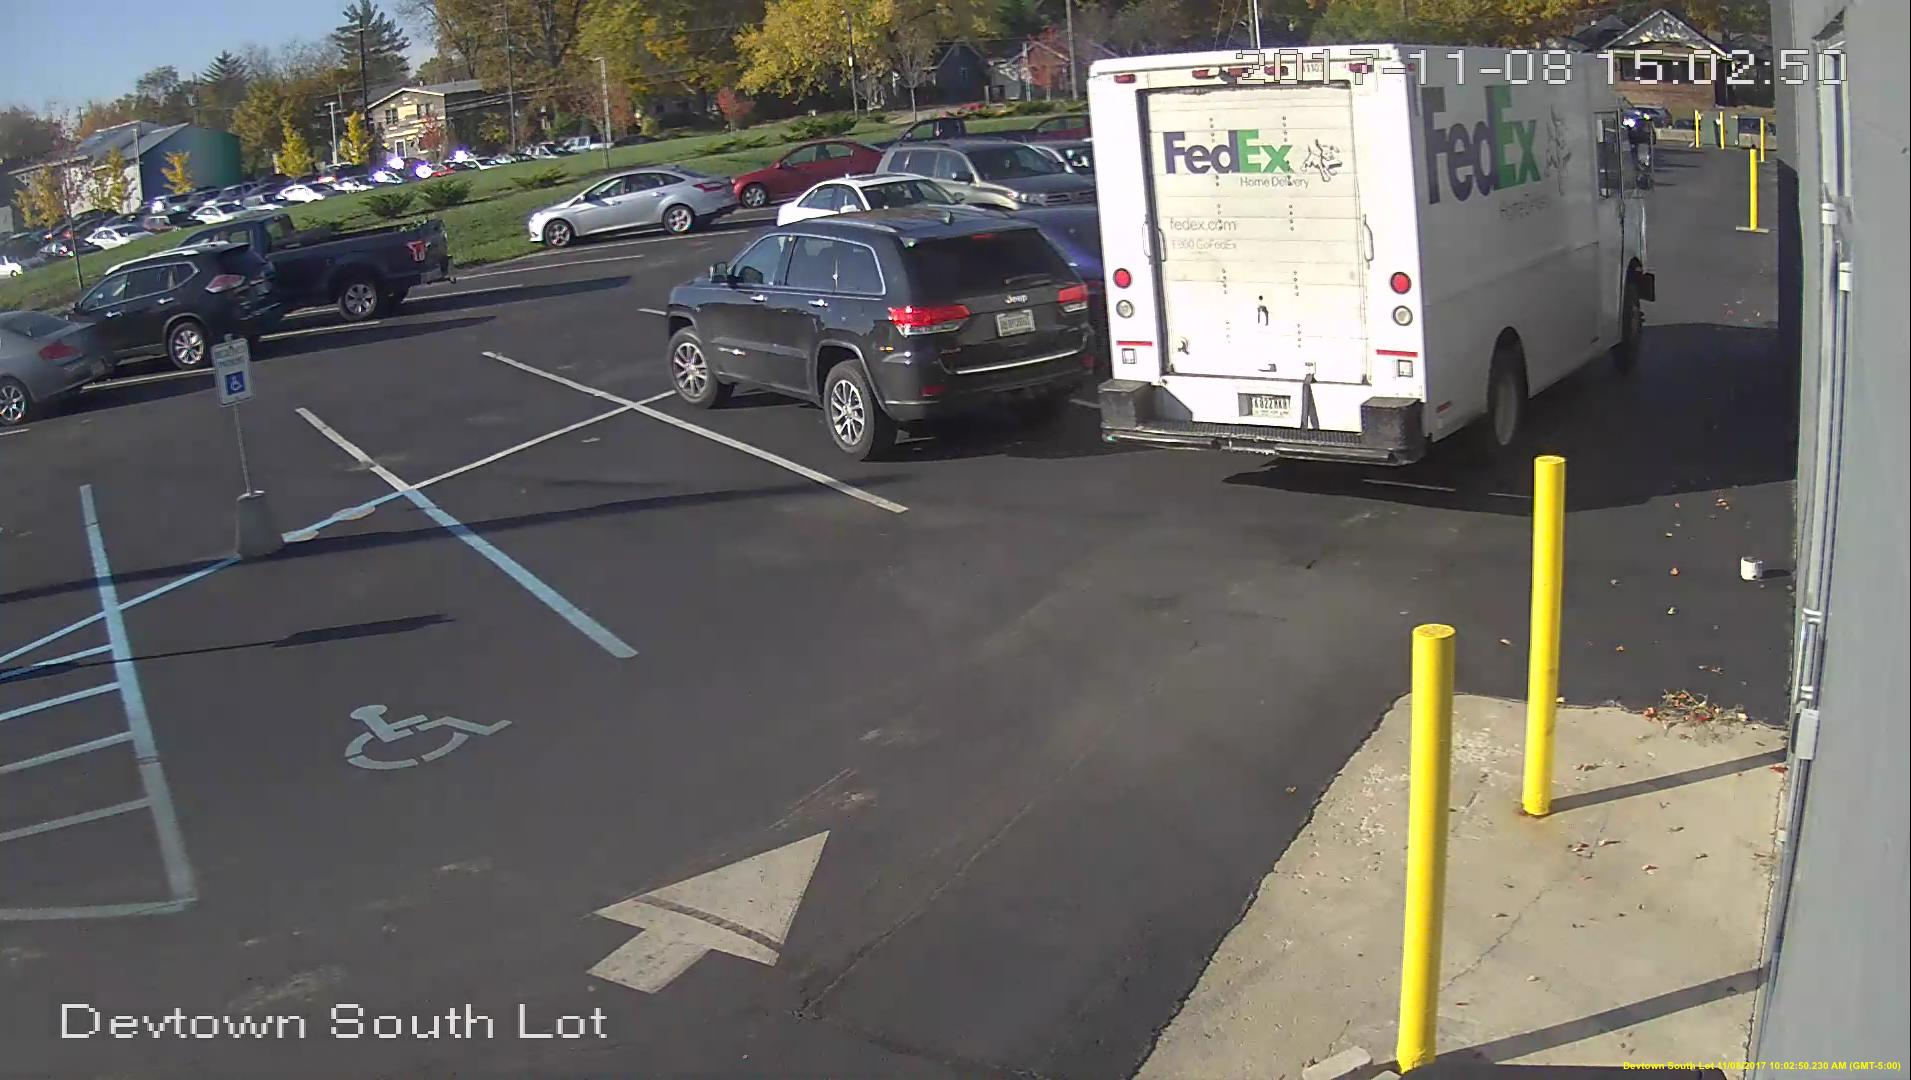fedex_truck: (1083, 41, 1663, 478)
